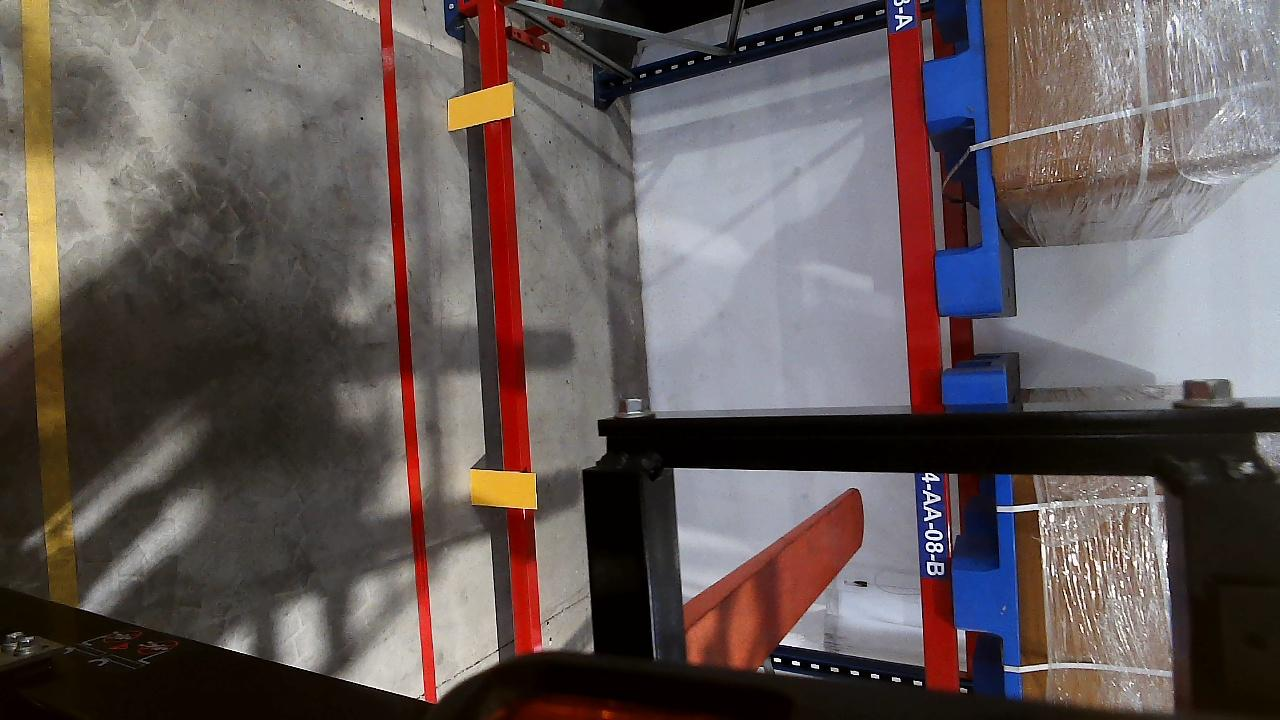h_rack: (883, 0, 951, 691), (472, 12, 538, 654)
orange_strip: (445, 83, 515, 130), (470, 469, 536, 509)
red_line: (380, 17, 431, 639)
small_pallet: (917, 1, 1007, 309), (943, 476, 1028, 693)
yellow_line: (16, 0, 75, 607)
